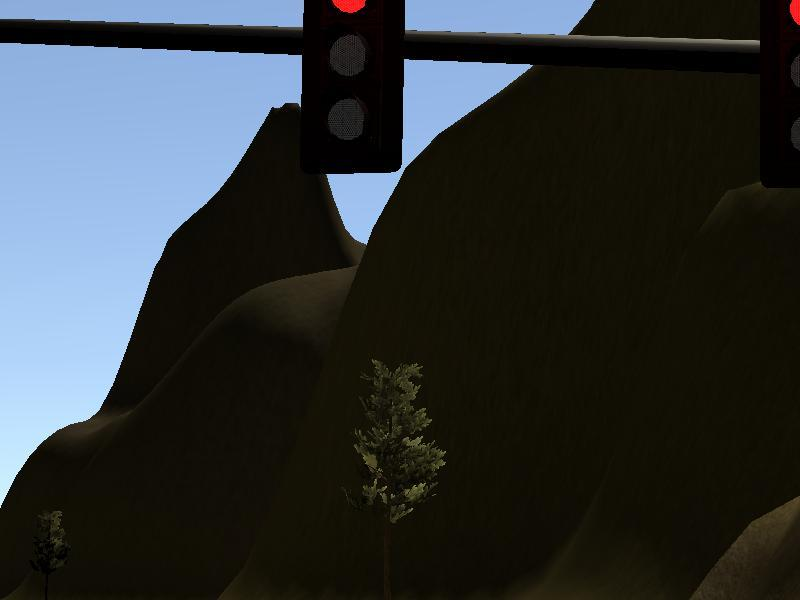Red: (307, 1, 403, 168), (774, 1, 798, 175)
